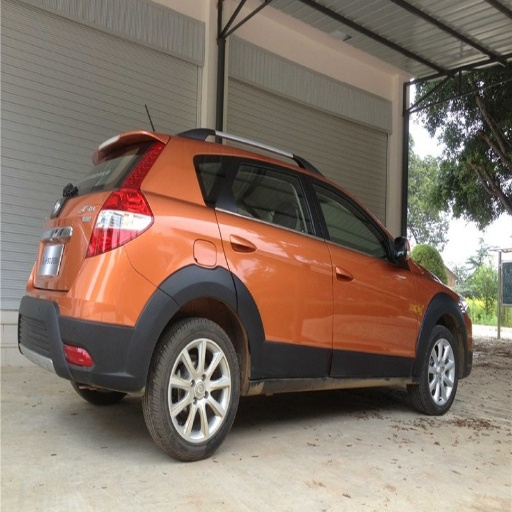back_bumper: (18, 245, 174, 394)
back_right_door: (203, 155, 331, 374)
tailgate: (37, 194, 89, 287)
